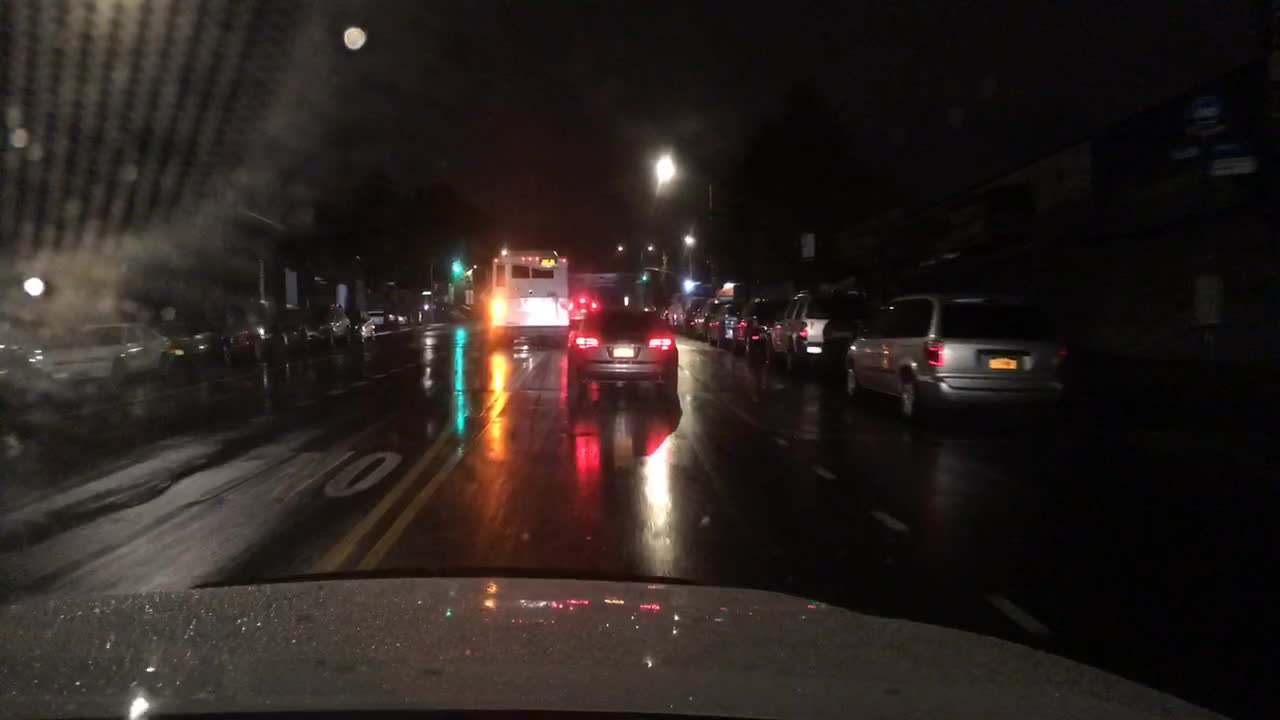bus: (486, 251, 571, 348)
car: (843, 289, 1070, 418), (567, 304, 680, 395), (34, 320, 173, 386), (765, 291, 879, 366), (0, 338, 57, 449), (151, 320, 226, 366), (721, 297, 783, 349), (219, 320, 280, 364), (269, 308, 313, 347), (311, 305, 352, 344), (700, 301, 730, 344), (351, 307, 376, 344), (683, 300, 705, 338), (661, 294, 687, 326), (367, 309, 409, 325), (567, 301, 590, 323)
traffic light: (447, 253, 463, 279), (639, 270, 650, 285), (578, 289, 587, 302)
traffic sign: (1206, 129, 1254, 178), (1185, 93, 1224, 135), (1166, 135, 1203, 159), (800, 233, 811, 259)
